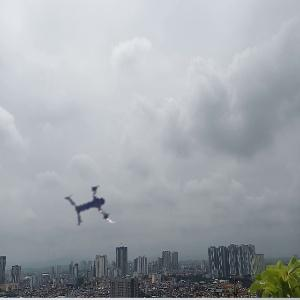drone: (66, 174, 126, 234)
